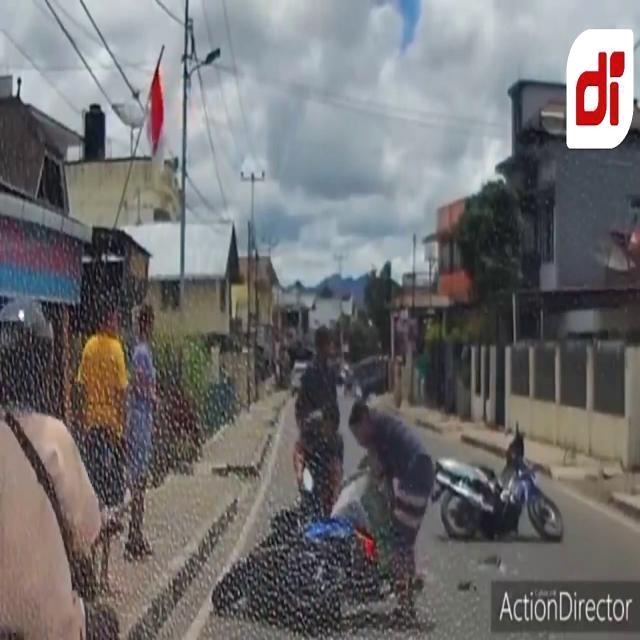accident: (209, 422, 565, 638)
